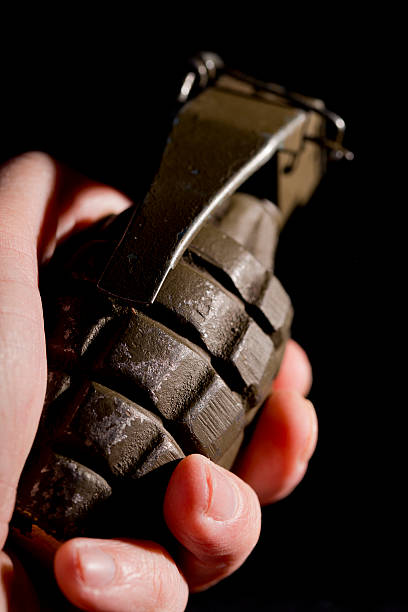e1: (22, 67, 342, 533)
